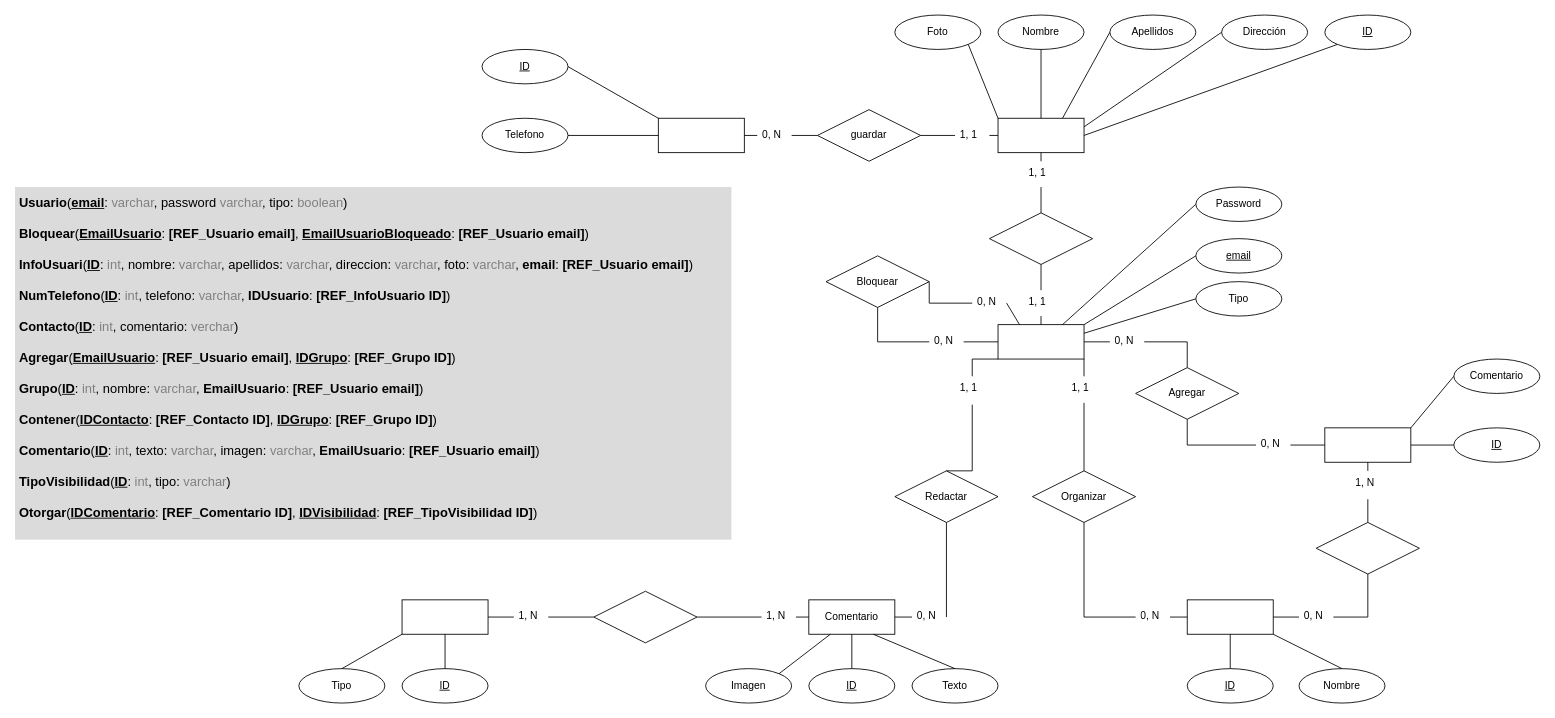
Some shapes in this 1555 by 718 pixel diagram are drawn without their labels. Each missing label, with the centre of its shape:
Contacto: (x=1367, y=444)
Contener: (x=1367, y=548)
Grupo: (x=1229, y=616)
Info_usuario: (x=1040, y=135)
Num_telefono: (x=700, y=135)
Otorgar: (x=645, y=616)
Registrar: (x=1041, y=238)
Tipo_visibilidad: (x=444, y=616)
Usuario: (x=1040, y=341)
